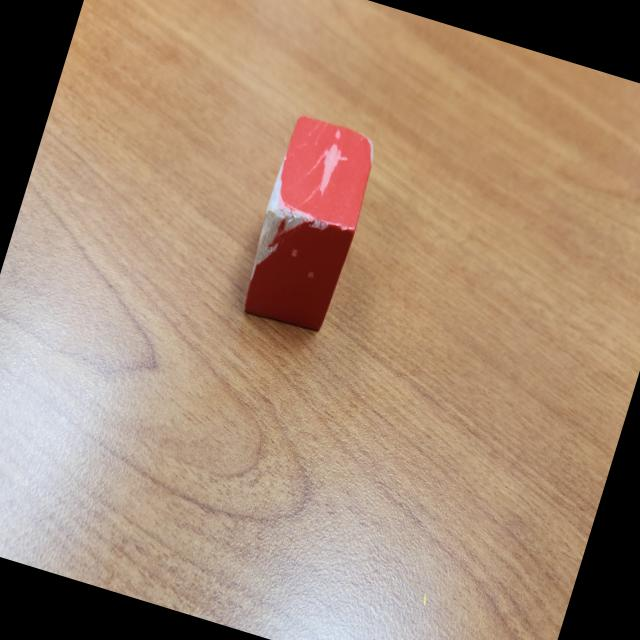broken: (234, 111, 384, 336)
